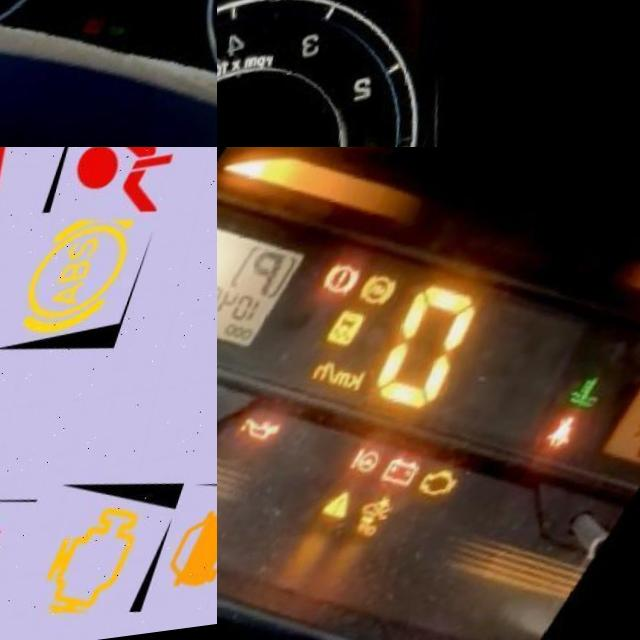Engine cooling system: (584, 380, 636, 429)
